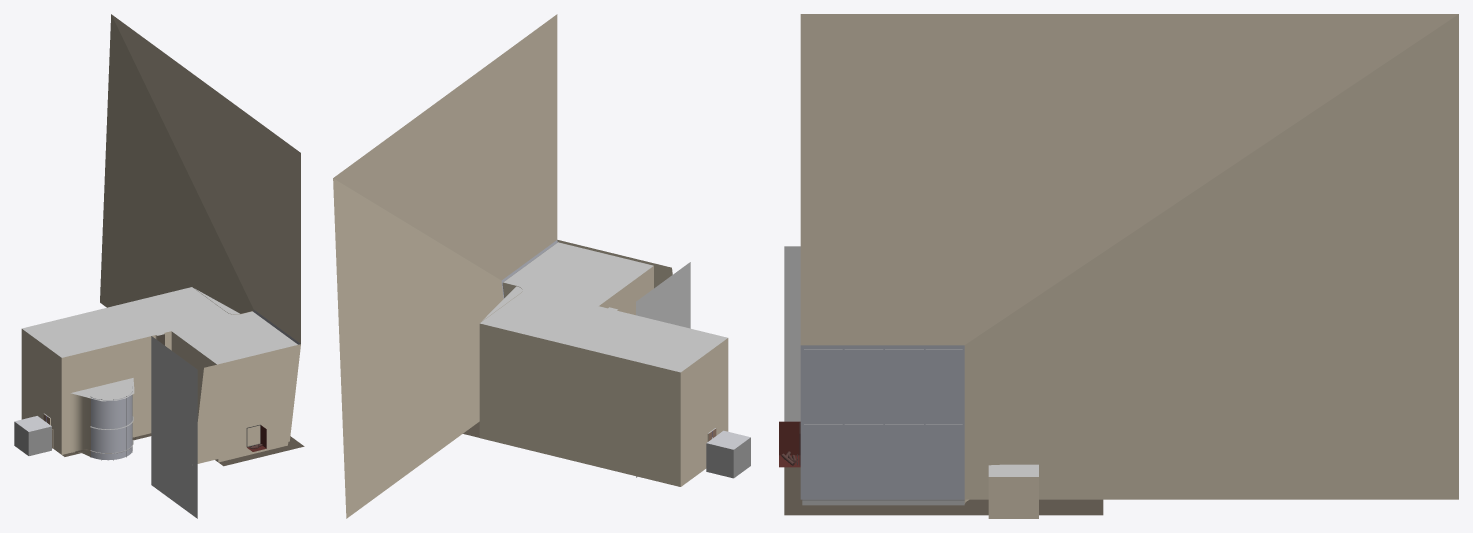
Rendered from EvilLair.fbx.
The picture shows the model from 3 angles, left to right: view 1: azimuth 30°, elevation 25°; view 2: azimuth 150°, elevation 25°; view 3: azimuth 270°, elevation 25°; orthographic projection. The views are drawn at different scales.
Parts seen in each view (by area): view 1: Base.001, Platform; view 2: Base.001, Platform; view 3: Base.001, Platform.
Part boxes in pixels (<box>): Base.001: <box>100,14,300,463</box>; Platform: <box>14,287,304,518</box>; Base.001: <box>333,14,672,518</box>; Platform: <box>463,242,750,486</box>; Base.001: <box>800,14,1458,499</box>; Platform: <box>779,246,1103,518</box>.
Size of the model in its own units: 42.31 by 61.23 by 64.77.
